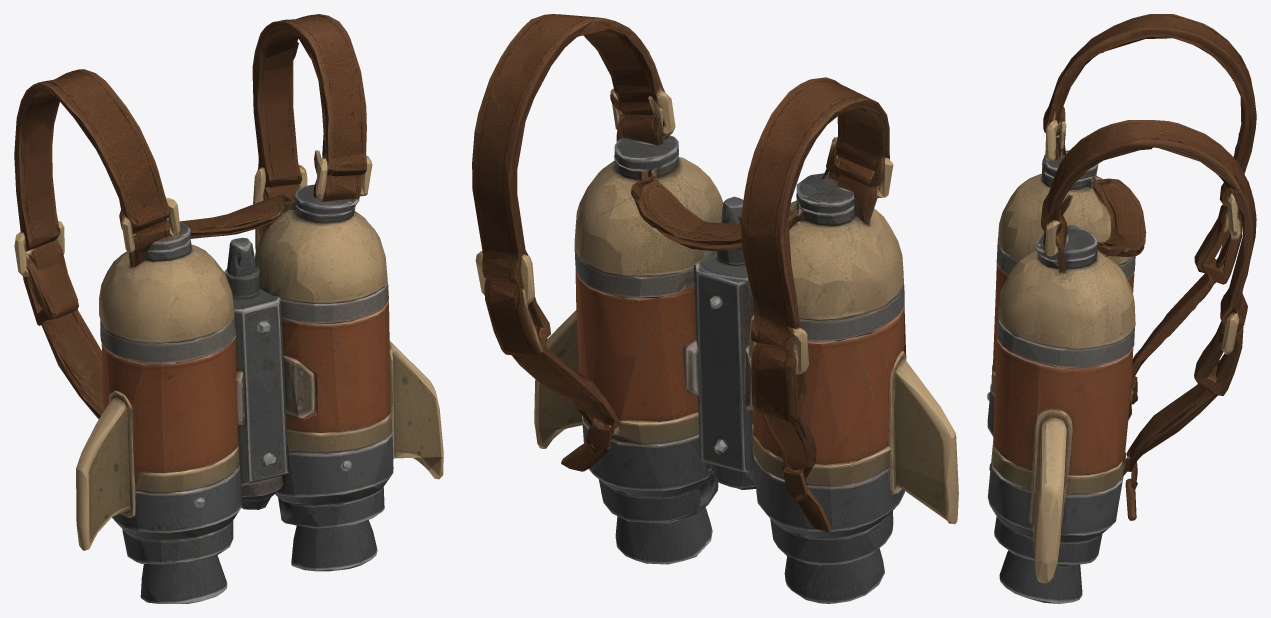
The model's file is rocket.glb.
3 views of the same model, side by side, from view 1: azimuth 30°, elevation 25°; view 2: azimuth 150°, elevation 25°; view 3: azimuth 270°, elevation 25° (orthographic). The views are drawn at different scales.
Bounding box in the file's own units: 1.48 × 1.9 × 0.9593.
Materials: 1 (1 with a texture image).
